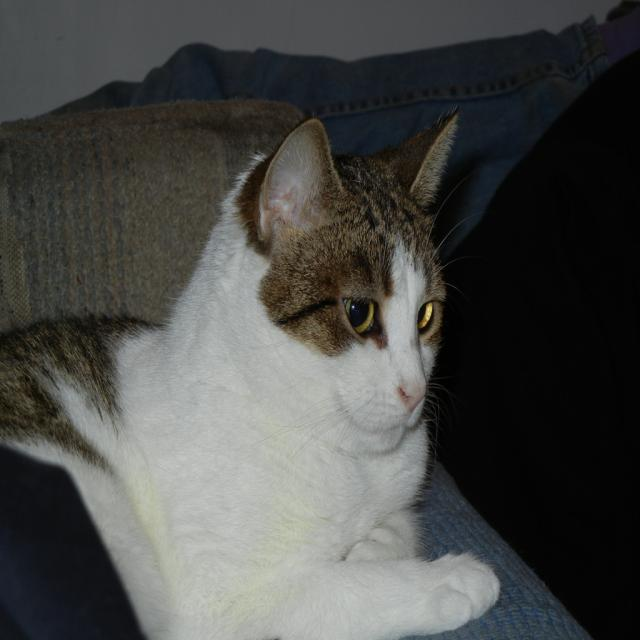Cat: (0, 109, 502, 638)
